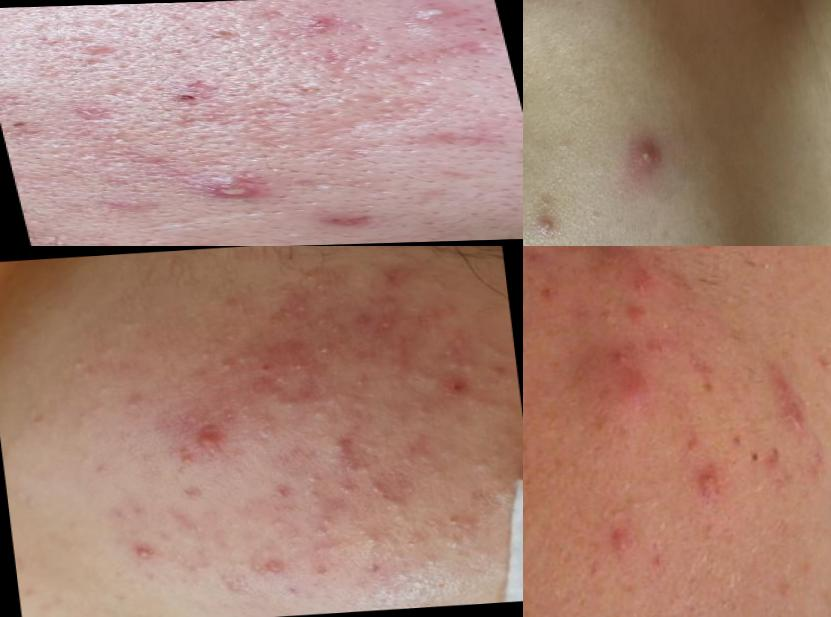papular: (563, 362, 661, 423), (579, 508, 637, 578), (682, 446, 734, 516), (179, 420, 242, 458), (307, 434, 364, 459)
purulent: (171, 176, 268, 208), (372, 1, 464, 30), (121, 531, 162, 566), (631, 133, 663, 172), (528, 211, 564, 238), (543, 223, 554, 230)
sebo-crystan-conglo: (288, 202, 405, 242)
whitehead: (411, 512, 489, 568), (284, 259, 332, 297), (347, 522, 391, 557), (59, 353, 103, 381), (448, 342, 479, 379), (364, 476, 400, 504), (255, 558, 294, 583), (299, 469, 326, 501), (220, 574, 251, 600), (415, 554, 446, 579), (310, 340, 345, 362), (406, 395, 437, 418), (326, 318, 351, 346), (304, 312, 337, 333), (303, 395, 348, 410), (472, 452, 499, 475), (315, 515, 341, 538), (125, 393, 151, 416), (271, 397, 305, 414), (335, 478, 360, 499), (375, 315, 402, 333), (348, 374, 374, 392), (532, 192, 554, 213), (218, 332, 246, 348), (268, 516, 289, 534), (199, 346, 216, 366), (272, 375, 293, 391), (437, 440, 451, 461), (218, 360, 235, 375)
